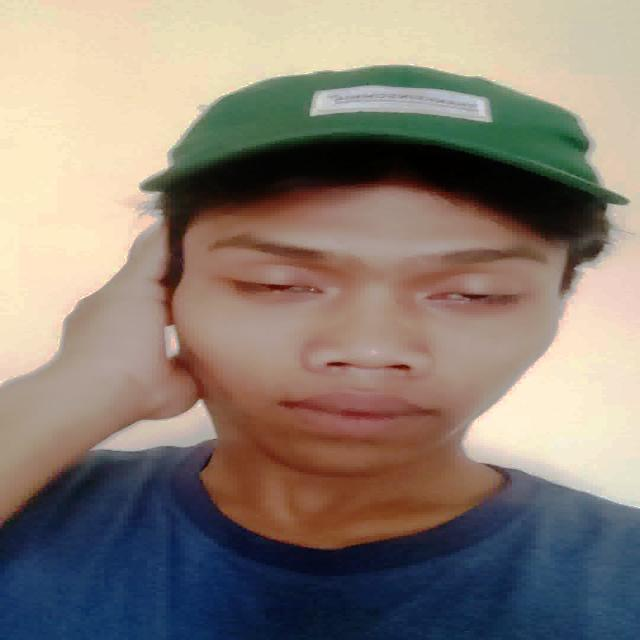TOPI: (96, 41, 640, 213)
